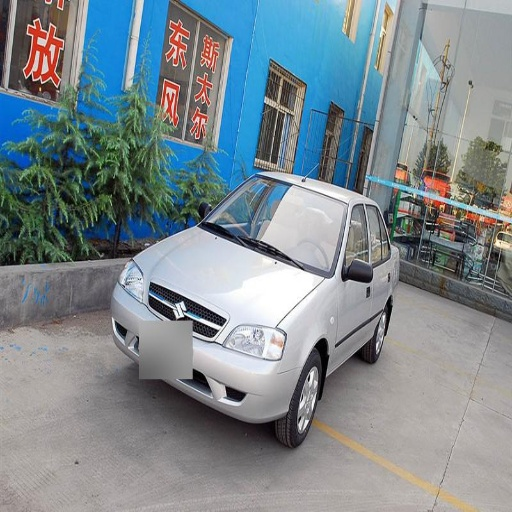front_bumper: (115, 282, 301, 422)
front_glass: (199, 176, 345, 275)
front_left_door: (336, 203, 370, 358)
